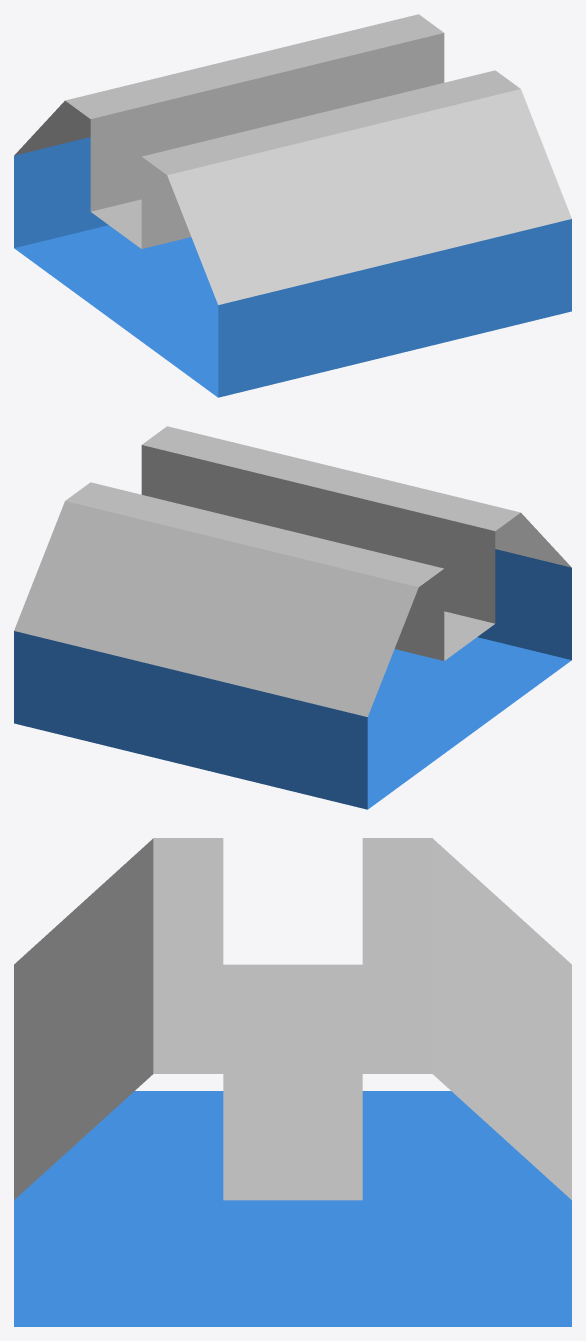
Rendered from windowFrame.fbx.
The picture shows the model from 3 angles, top to bottom: view 1: azimuth 30°, elevation 25°; view 2: azimuth 150°, elevation 25°; view 3: azimuth 270°, elevation 25°; orthographic projection. The views are drawn at different scales.
Parts seen in each view (by area): view 1: Krychle; view 2: Krychle; view 3: Krychle.
Boxes of the visible parts, box(x1,y1,x2,y2) form: Krychle: box(14, 14, 571, 397); Krychle: box(14, 426, 571, 809); Krychle: box(14, 838, 571, 1326).
Size of the model in its own units: 20 by 10 by 20.
